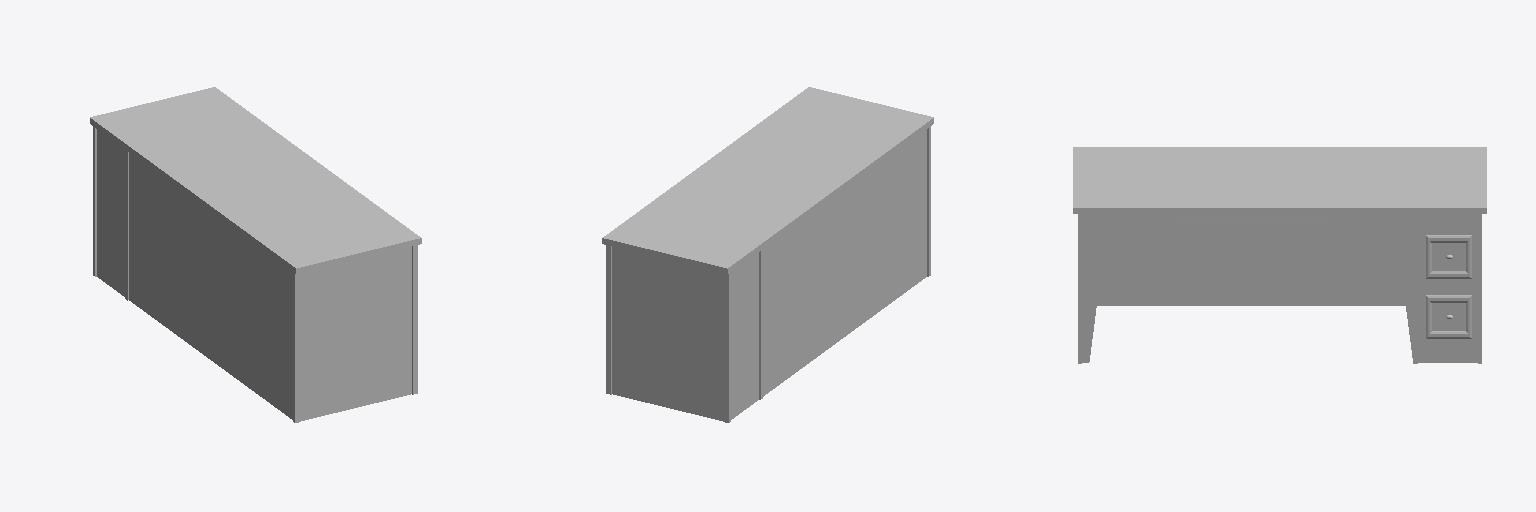
Rendered from Desk.obj.
3 views of the same model, side by side, from view 1: azimuth 30°, elevation 25°; view 2: azimuth 150°, elevation 25°; view 3: azimuth 270°, elevation 25° (orthographic).
Visible parts, largest first — view 1: Cube.010, Cube.009; view 2: Cube.010, Cube.009; view 3: Cube.010, Cube.009.
Part boxes in pixels (bbox=[...]): Cube.010: bbox=[97, 129, 411, 420]; Cube.009: bbox=[90, 87, 421, 422]; Cube.010: bbox=[612, 129, 926, 420]; Cube.009: bbox=[602, 87, 933, 422]; Cube.010: bbox=[1082, 214, 1477, 362]; Cube.009: bbox=[1073, 147, 1486, 363].
Bounding box in the file's own units: 1.28 × 1.52 × 3.63.